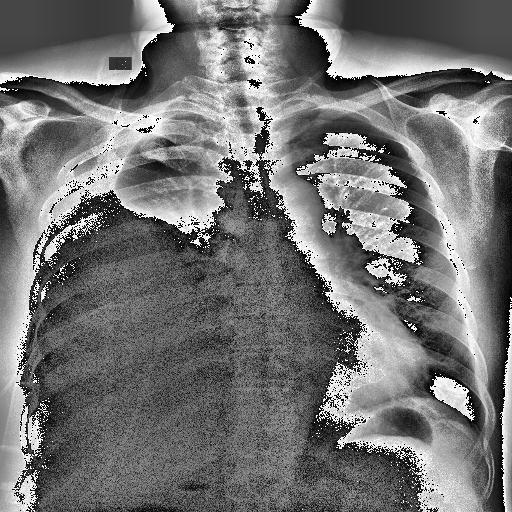10- Pleural effusion: (29, 98, 238, 422), (34, 114, 218, 444), (40, 105, 228, 403), (465, 422, 491, 446)
11- Pleural thickening: (465, 422, 491, 446)
7- Lung Opacity: (110, 108, 224, 242), (120, 141, 210, 234)
